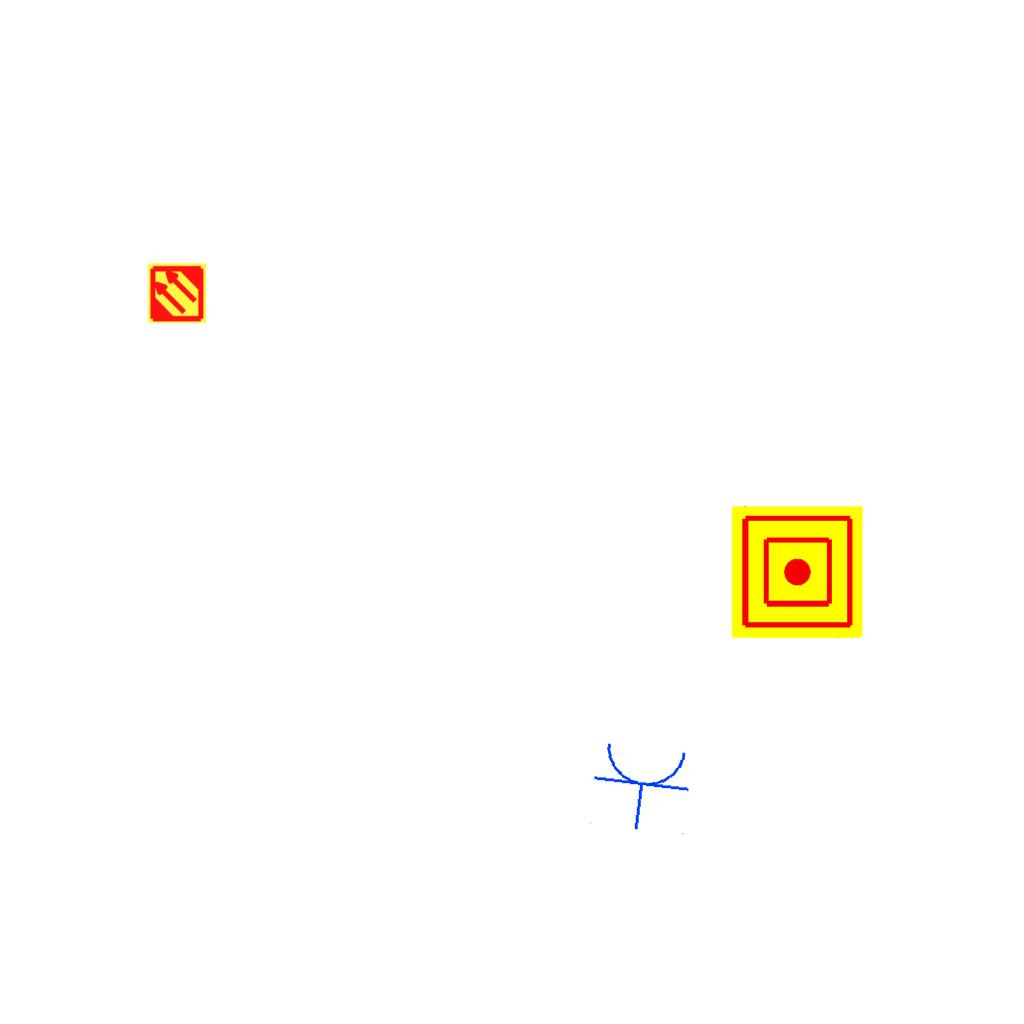ASR_Ansaugrauchmelder: (146, 262, 208, 324)
NAM-Nichtautomatischer_Melder: (731, 506, 863, 638)
Schukosteckdose_einfach: (587, 737, 697, 836)
